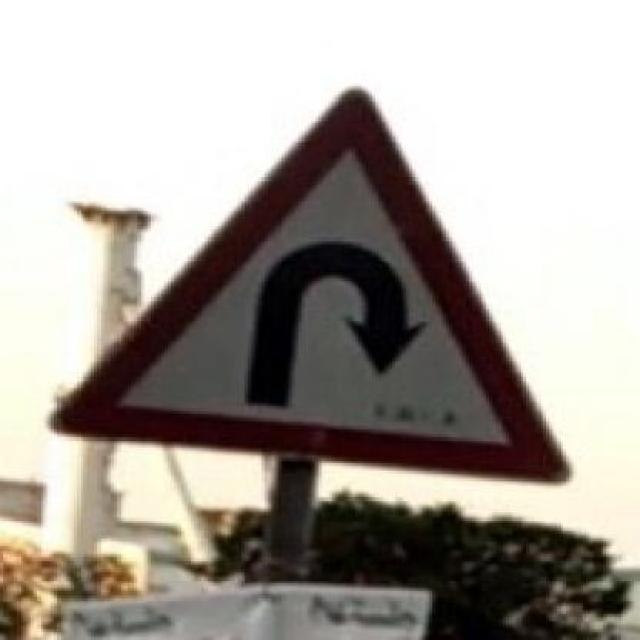u turn: (45, 86, 576, 491)
